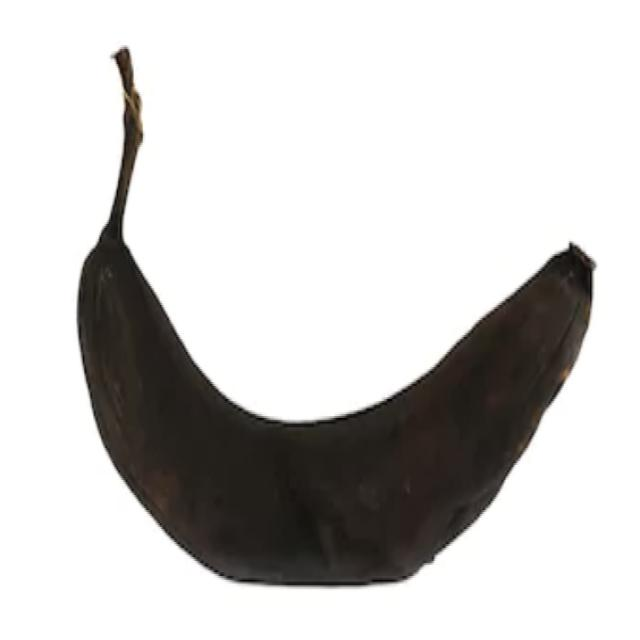Rotten: (60, 42, 607, 610)
